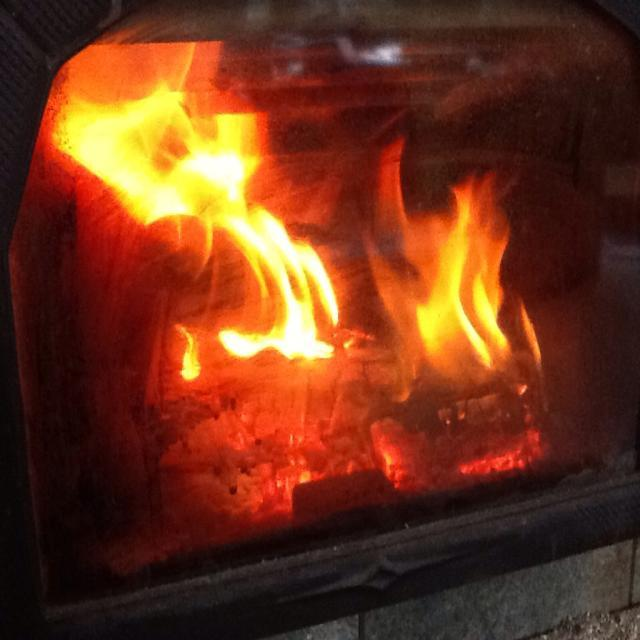Fire: (55, 84, 507, 385)
